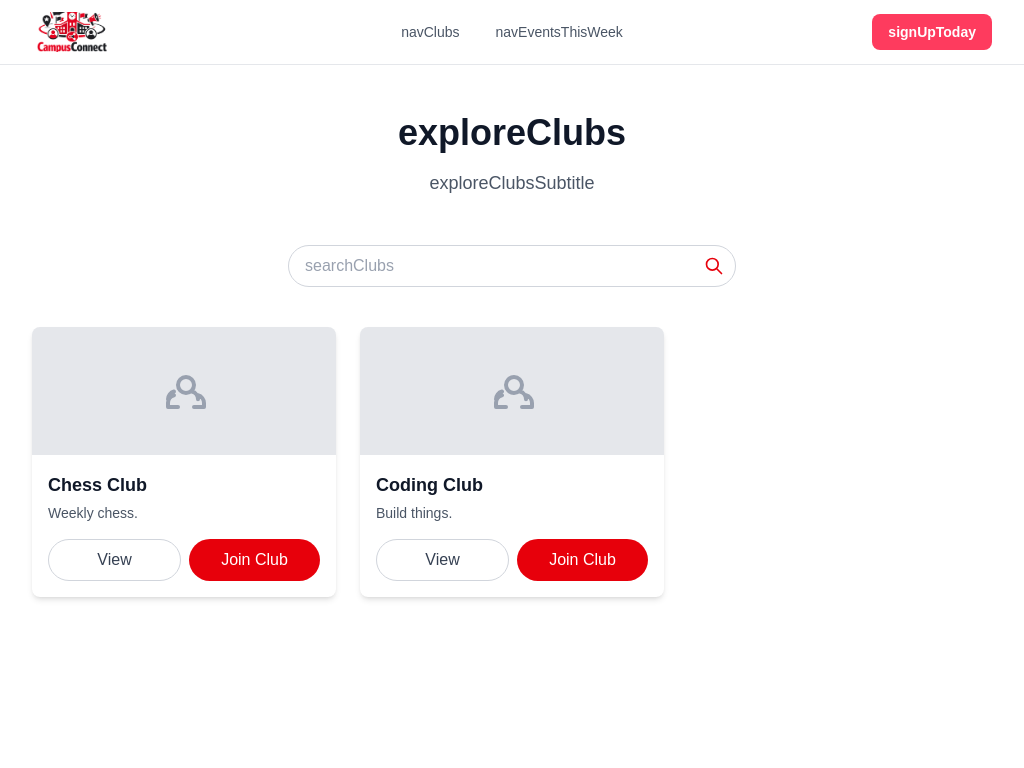
ClubsPage › TC-124 [S-03]: shows "no clubs matching" when the search matches nothing
Check: the heading "Chess Club" is shown, box [48, 475, 147, 495]
Type "robotics" into the field with placeholder "searchClubs" at (512, 266), box [288, 245, 736, 287]
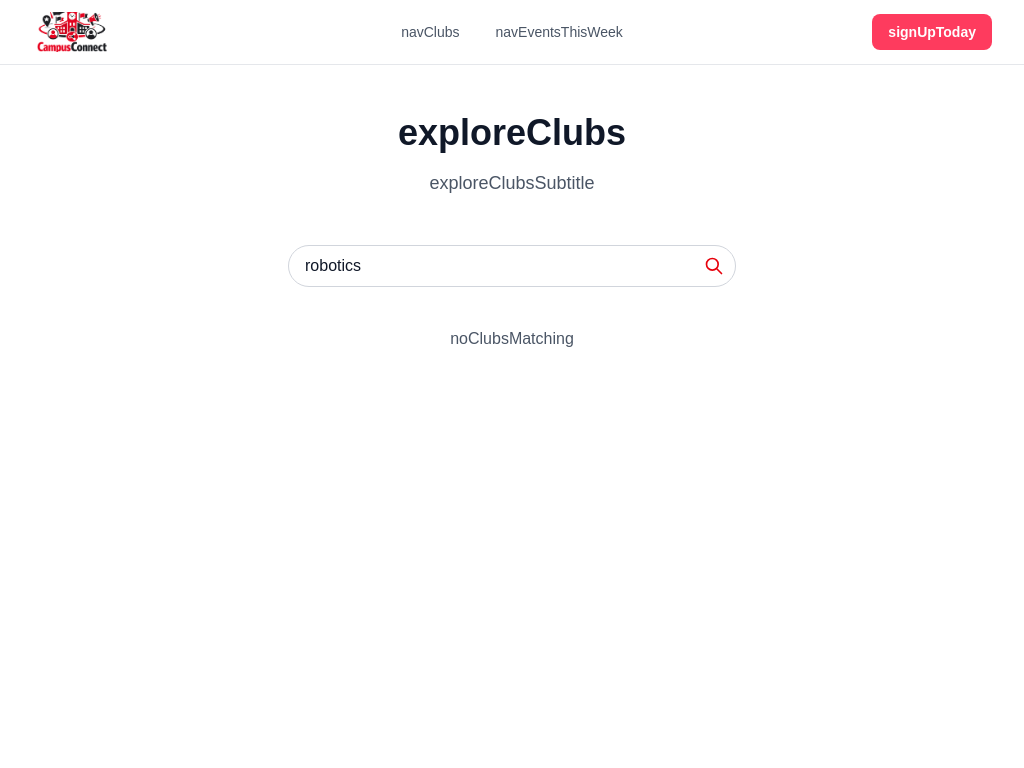
Check: the text "noClubsMatching" is shown, box [450, 330, 574, 347]
